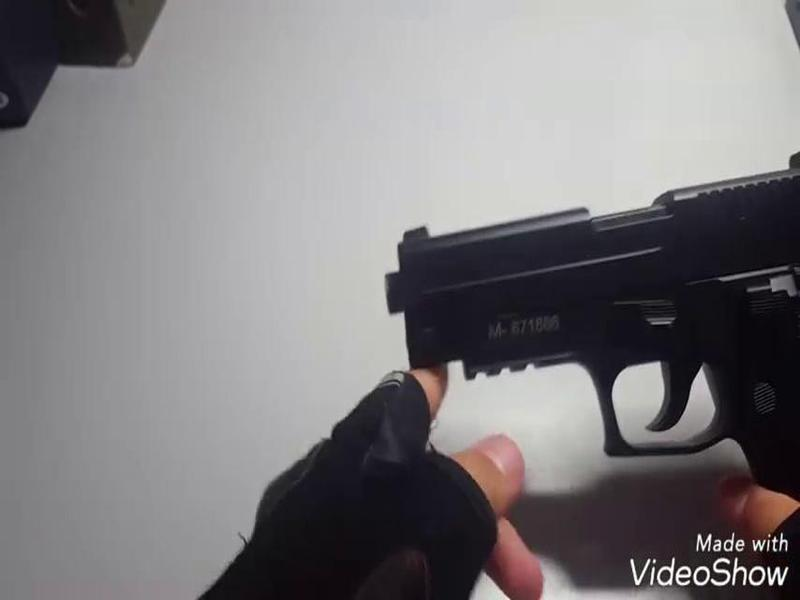Pistola: (375, 145, 800, 498)
